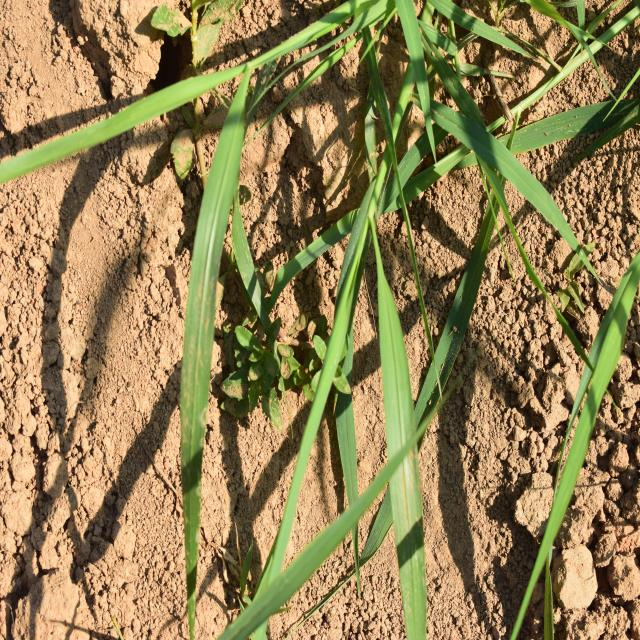green_foxtail: (104, 41, 482, 564)
